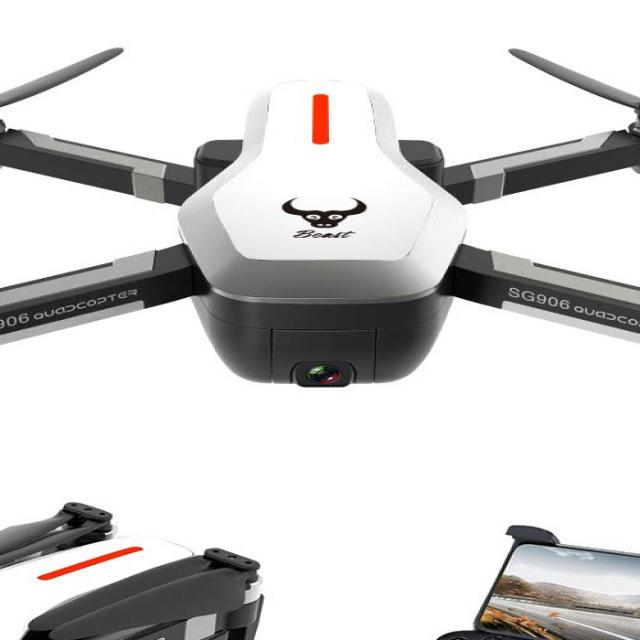drone: (0, 39, 640, 518)
